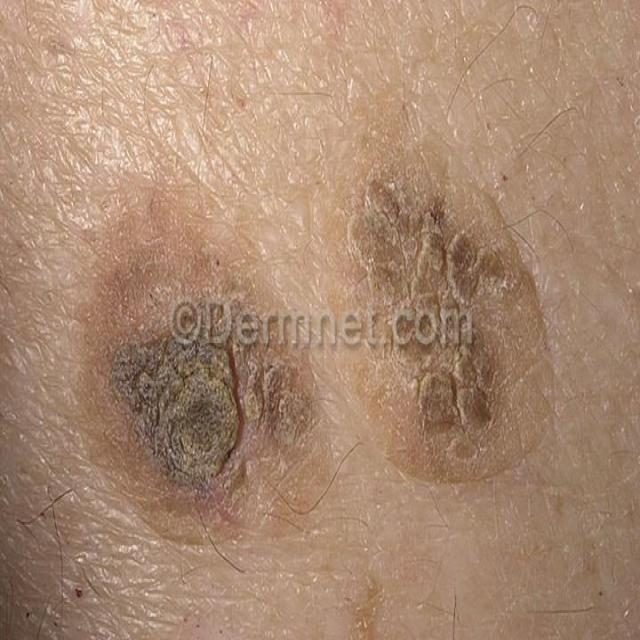Eczema: (85, 176, 320, 538), (349, 148, 553, 478)
